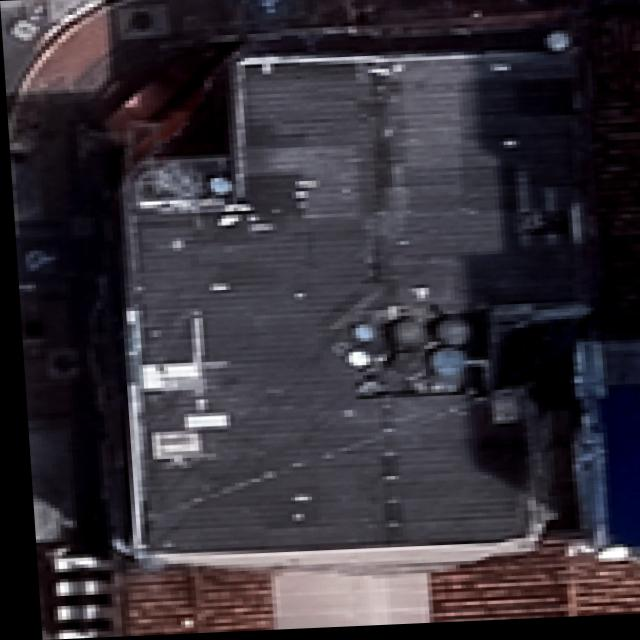Batiment: (127, 59, 588, 552), (422, 551, 640, 626), (115, 570, 264, 637)
